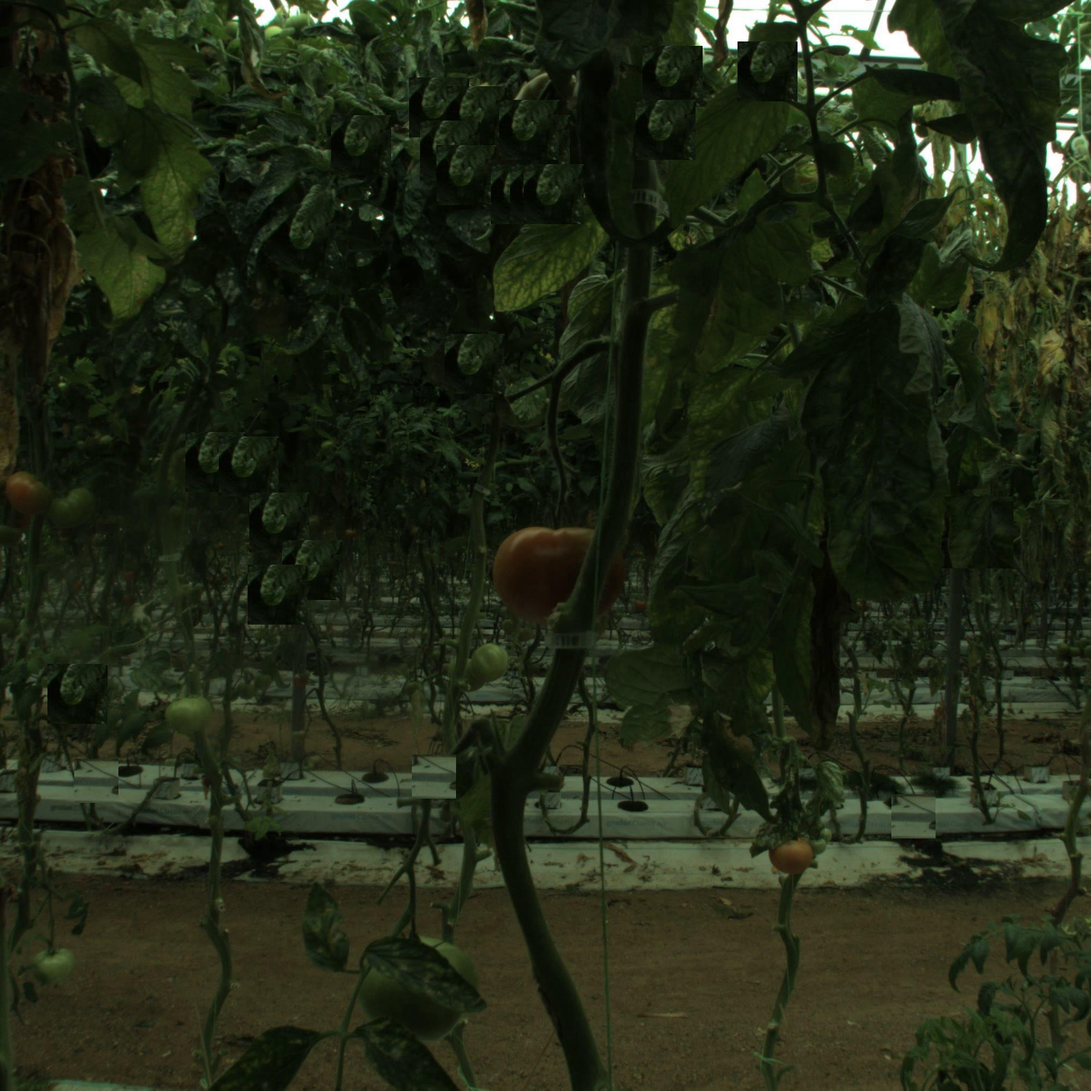fully-ripe: (495, 508, 619, 632), (771, 833, 816, 878)
semi-ripe: (8, 468, 53, 513)
unripe: (356, 926, 479, 1049), (51, 484, 93, 526), (34, 945, 76, 986), (468, 643, 509, 685), (169, 695, 210, 736)
